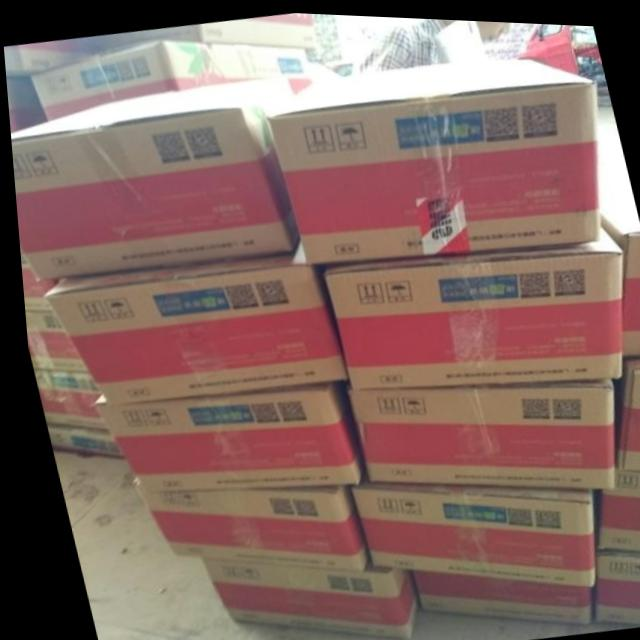box: (266, 53, 596, 263), (9, 73, 295, 280), (38, 236, 343, 406), (320, 222, 620, 388), (88, 376, 357, 493), (340, 374, 608, 483), (342, 467, 590, 582), (28, 40, 314, 121), (123, 477, 360, 569), (193, 554, 411, 637), (92, 10, 316, 53), (402, 569, 584, 621), (599, 207, 640, 353), (19, 296, 83, 373), (27, 369, 103, 431), (589, 465, 640, 550), (584, 546, 640, 621), (606, 352, 640, 466), (3, 36, 95, 78), (39, 422, 120, 460), (5, 76, 46, 132), (16, 249, 57, 296)
